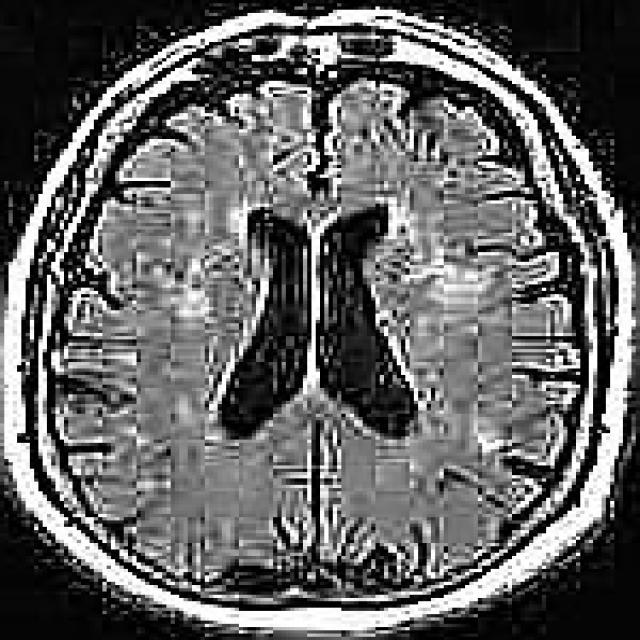notumor: (13, 10, 631, 614)
